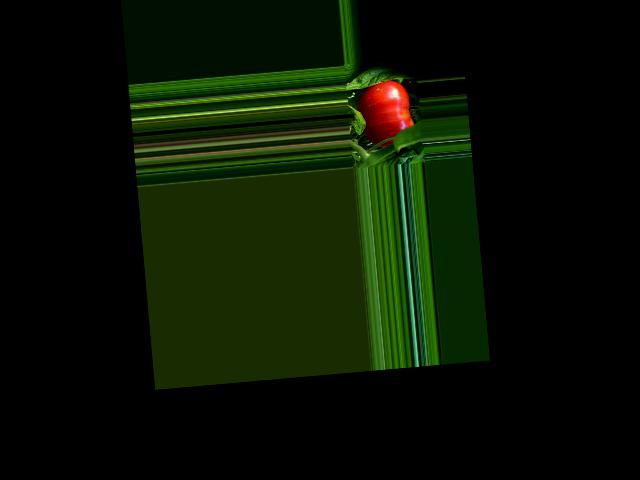tomato: (355, 78, 416, 149)
